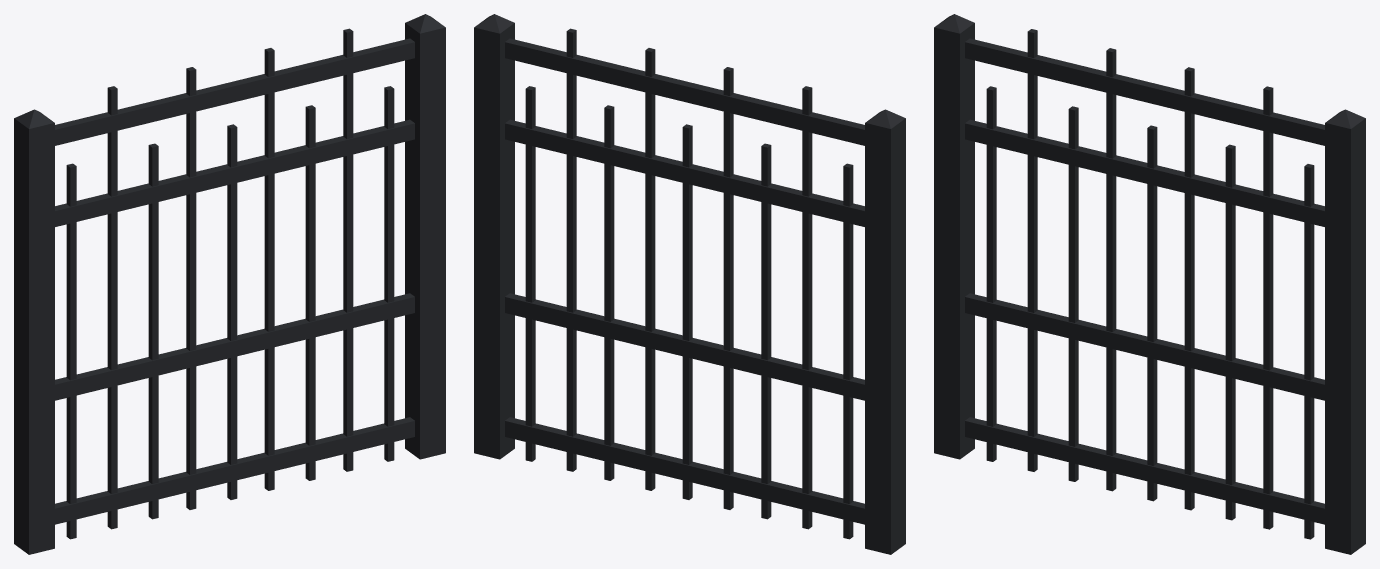
File: Fence_4.fbx
The picture shows the model from 3 angles, left to right: view 1: azimuth 30°, elevation 25°; view 2: azimuth 150°, elevation 25°; view 3: azimuth 330°, elevation 25°; orthographic projection.
Parts seen in each view (by area): view 1: Fence_4; view 2: Fence_4; view 3: Fence_4.
Boxes of the visible parts, x1=… form: Fence_4: x1=14, y1=14, x2=445, y2=554; Fence_4: x1=474, y1=14, x2=905, y2=554; Fence_4: x1=934, y1=14, x2=1365, y2=554.
Size of the model in its own units: 246 by 247 by 15.22.
